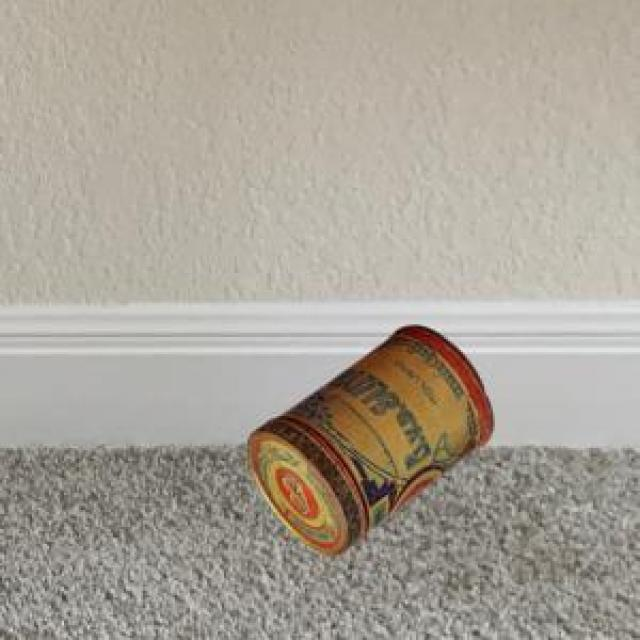logam: (244, 325, 490, 551)
